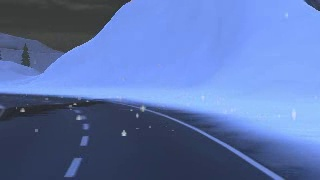Lane: (0, 92, 286, 179)
